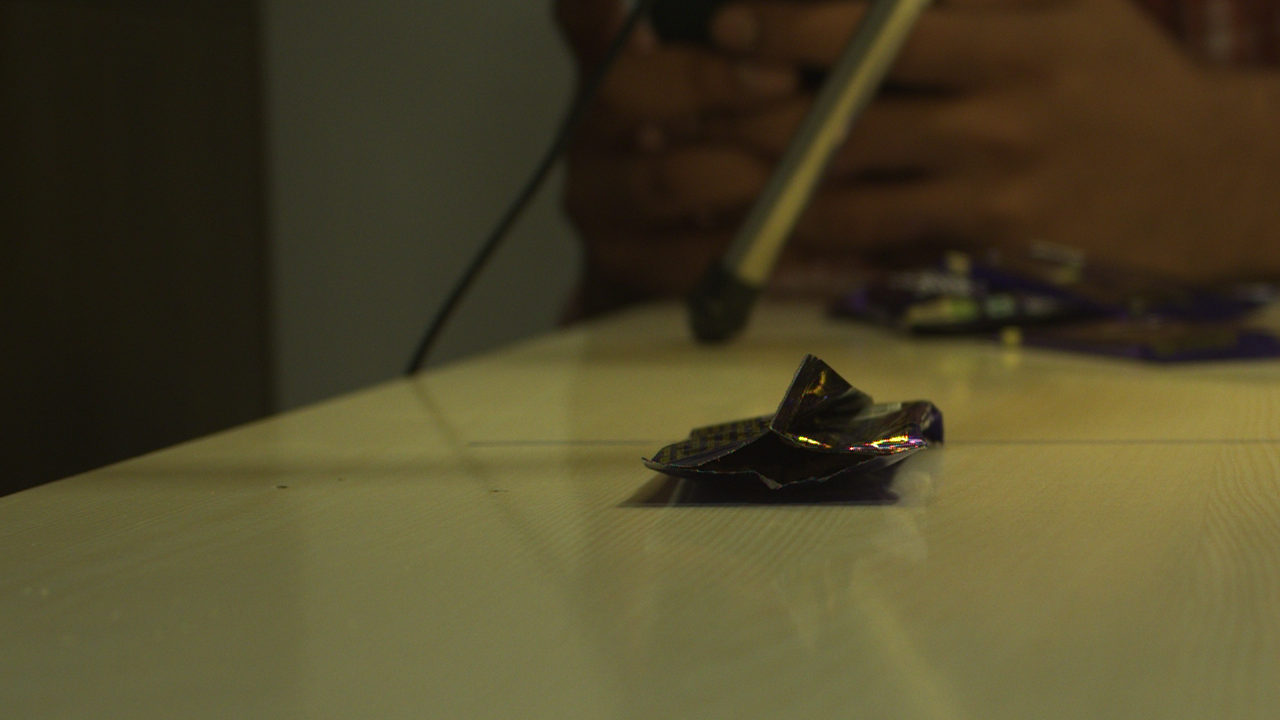Def: (645, 434, 913, 493)
